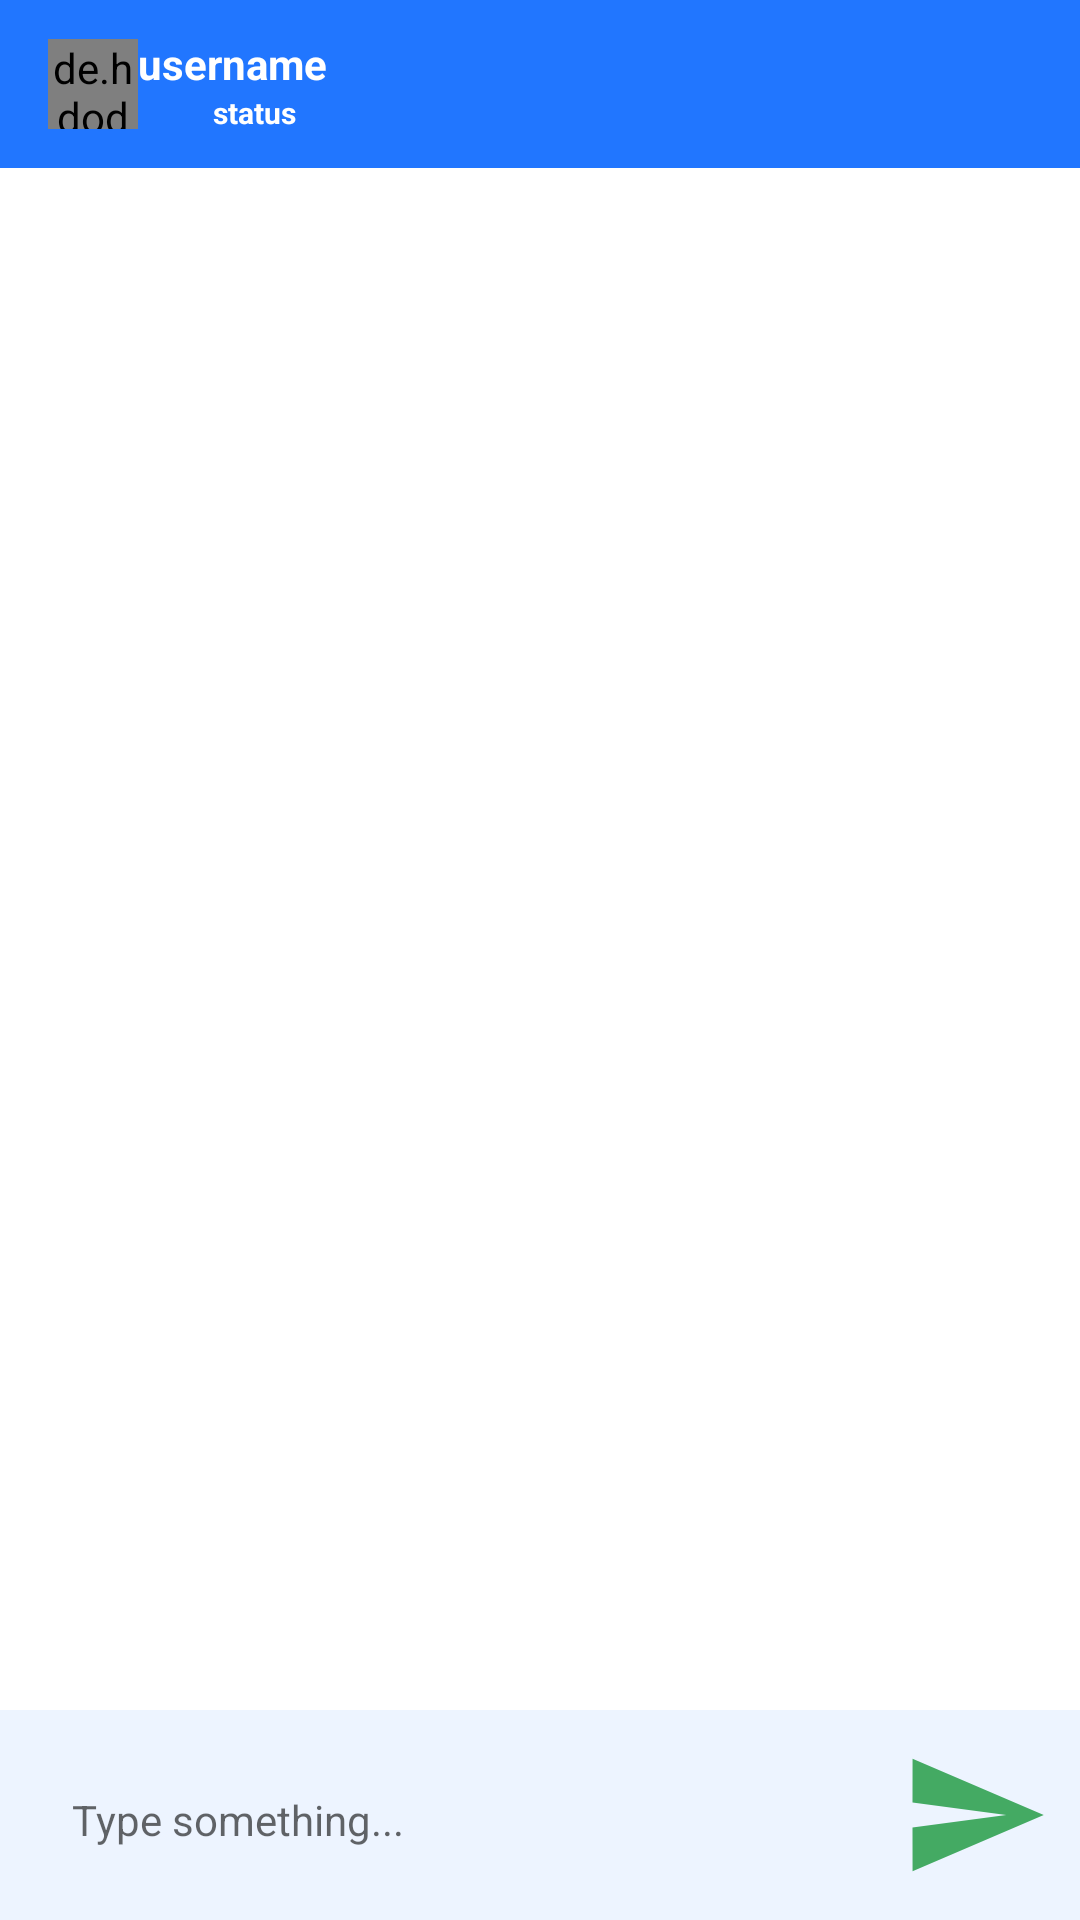

Named icons in this screenshot (1080w x 1920h) and their bounding boxes, (x1, y1, x2, y2):
send: (912, 1759, 1043, 1871)
